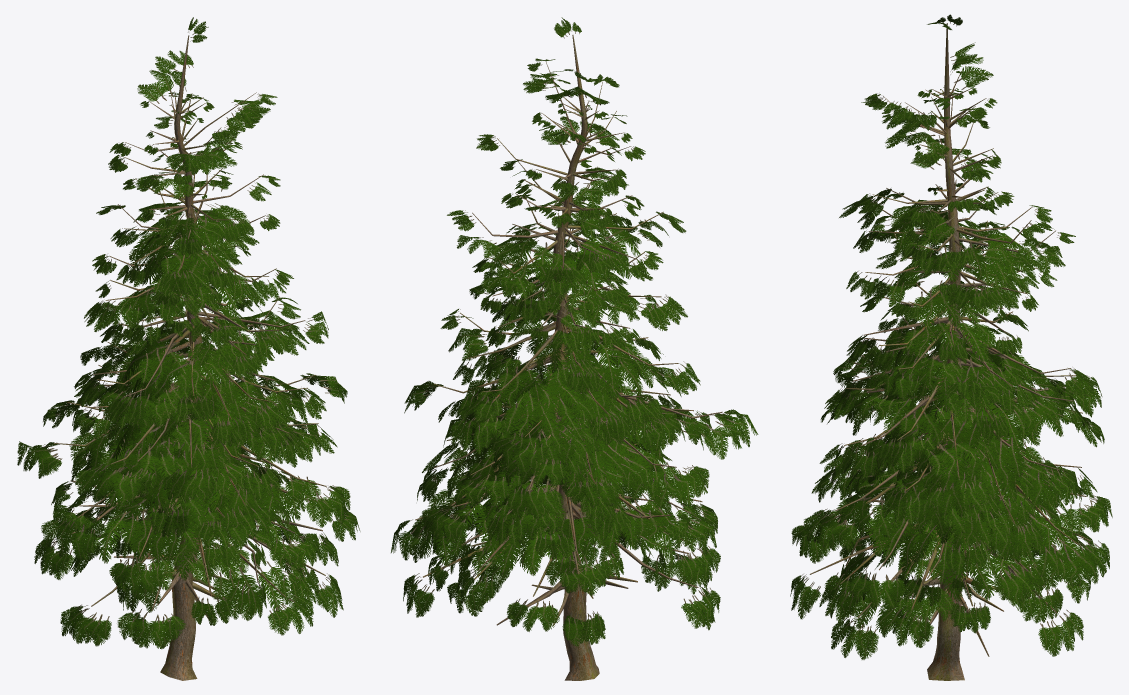
The model's file is SM_Spruce01.fbx.
3 renders of one model, left to right at view 1: azimuth 30°, elevation 25°; view 2: azimuth 150°, elevation 25°; view 3: azimuth 270°, elevation 25°, orthographic. The views are drawn at different scales.
Parts seen in each view (by area): view 1: SM_Spruce01_LOD0; view 2: SM_Spruce01_LOD0; view 3: SM_Spruce01_LOD0.
Boxes of the visible parts, x1,y1,x2,y2 form: SM_Spruce01_LOD0: (17, 17, 360, 680); SM_Spruce01_LOD0: (391, 17, 758, 680); SM_Spruce01_LOD0: (790, 14, 1112, 680).
Bounding box in the file's own units: 1228 × 1077 × 2449.
